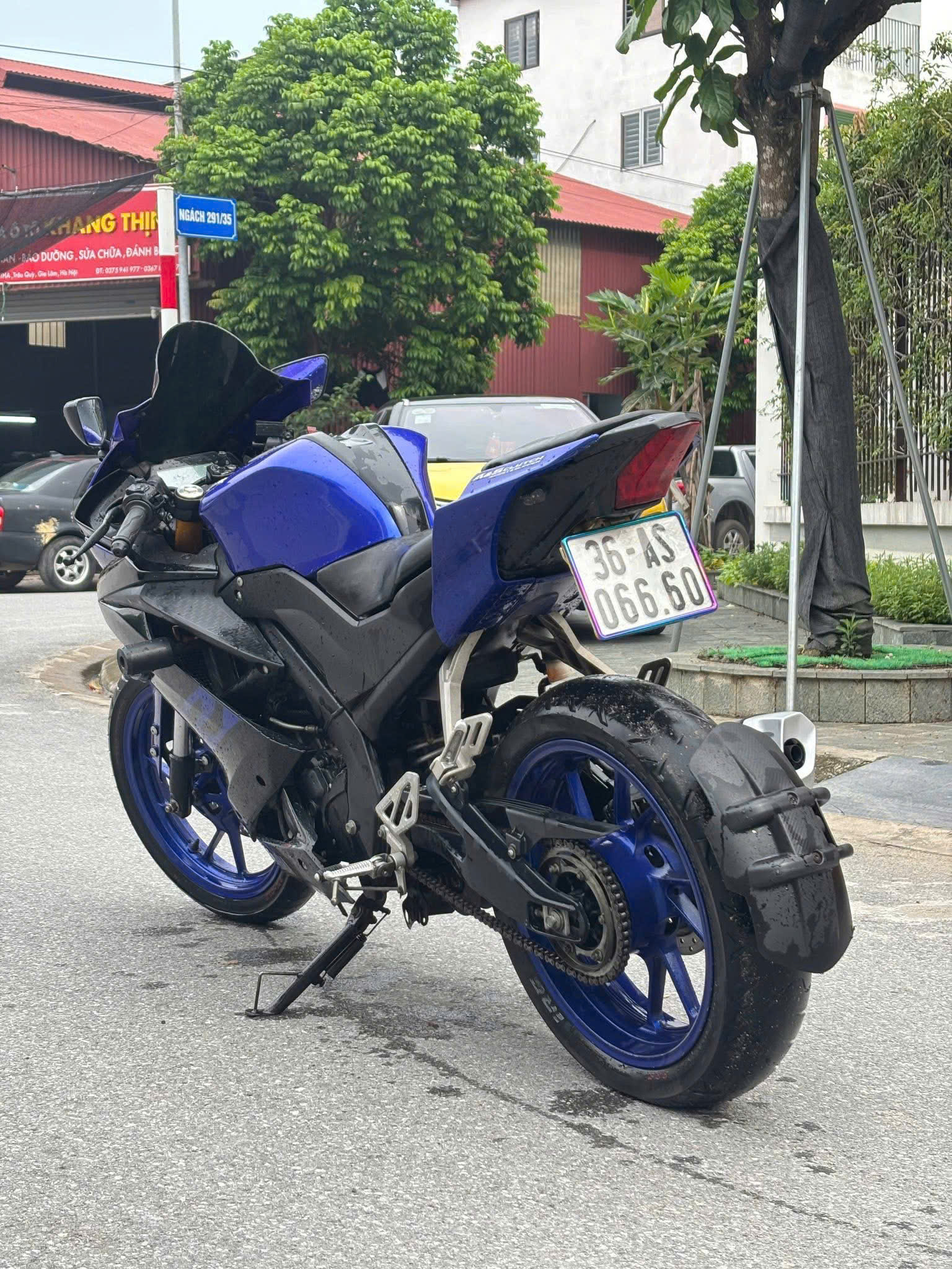Bien-so: (558, 502, 725, 647)
